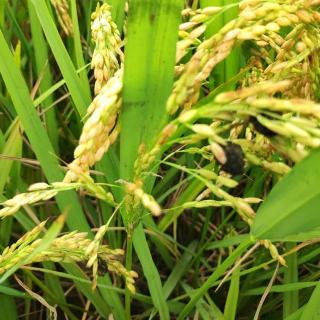Gosong-Palsu: (250, 106, 284, 138), (216, 140, 246, 176), (80, 255, 108, 279)
